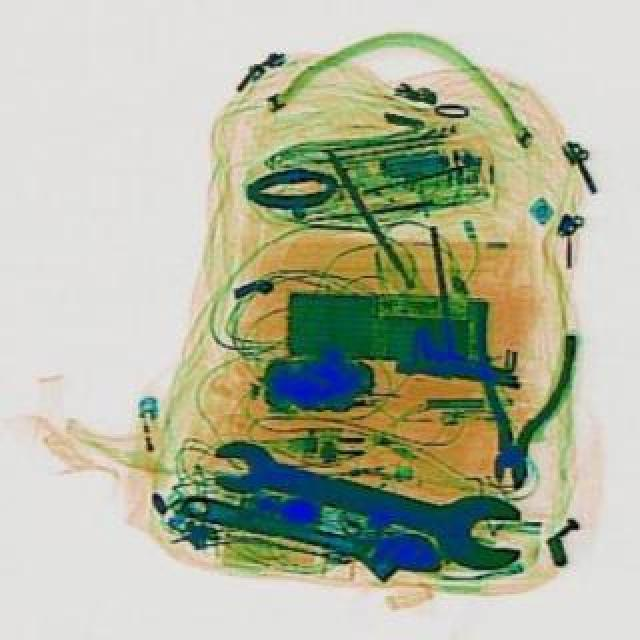scissors: (202, 420, 536, 578), (172, 470, 448, 594)
wrench: (458, 298, 576, 490)
